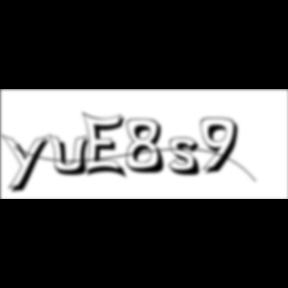8: (127, 117, 172, 176)
9: (200, 117, 246, 177)
E: (83, 110, 132, 182)
s: (168, 137, 208, 179)
u: (48, 132, 96, 178)
y: (1, 132, 55, 196)
